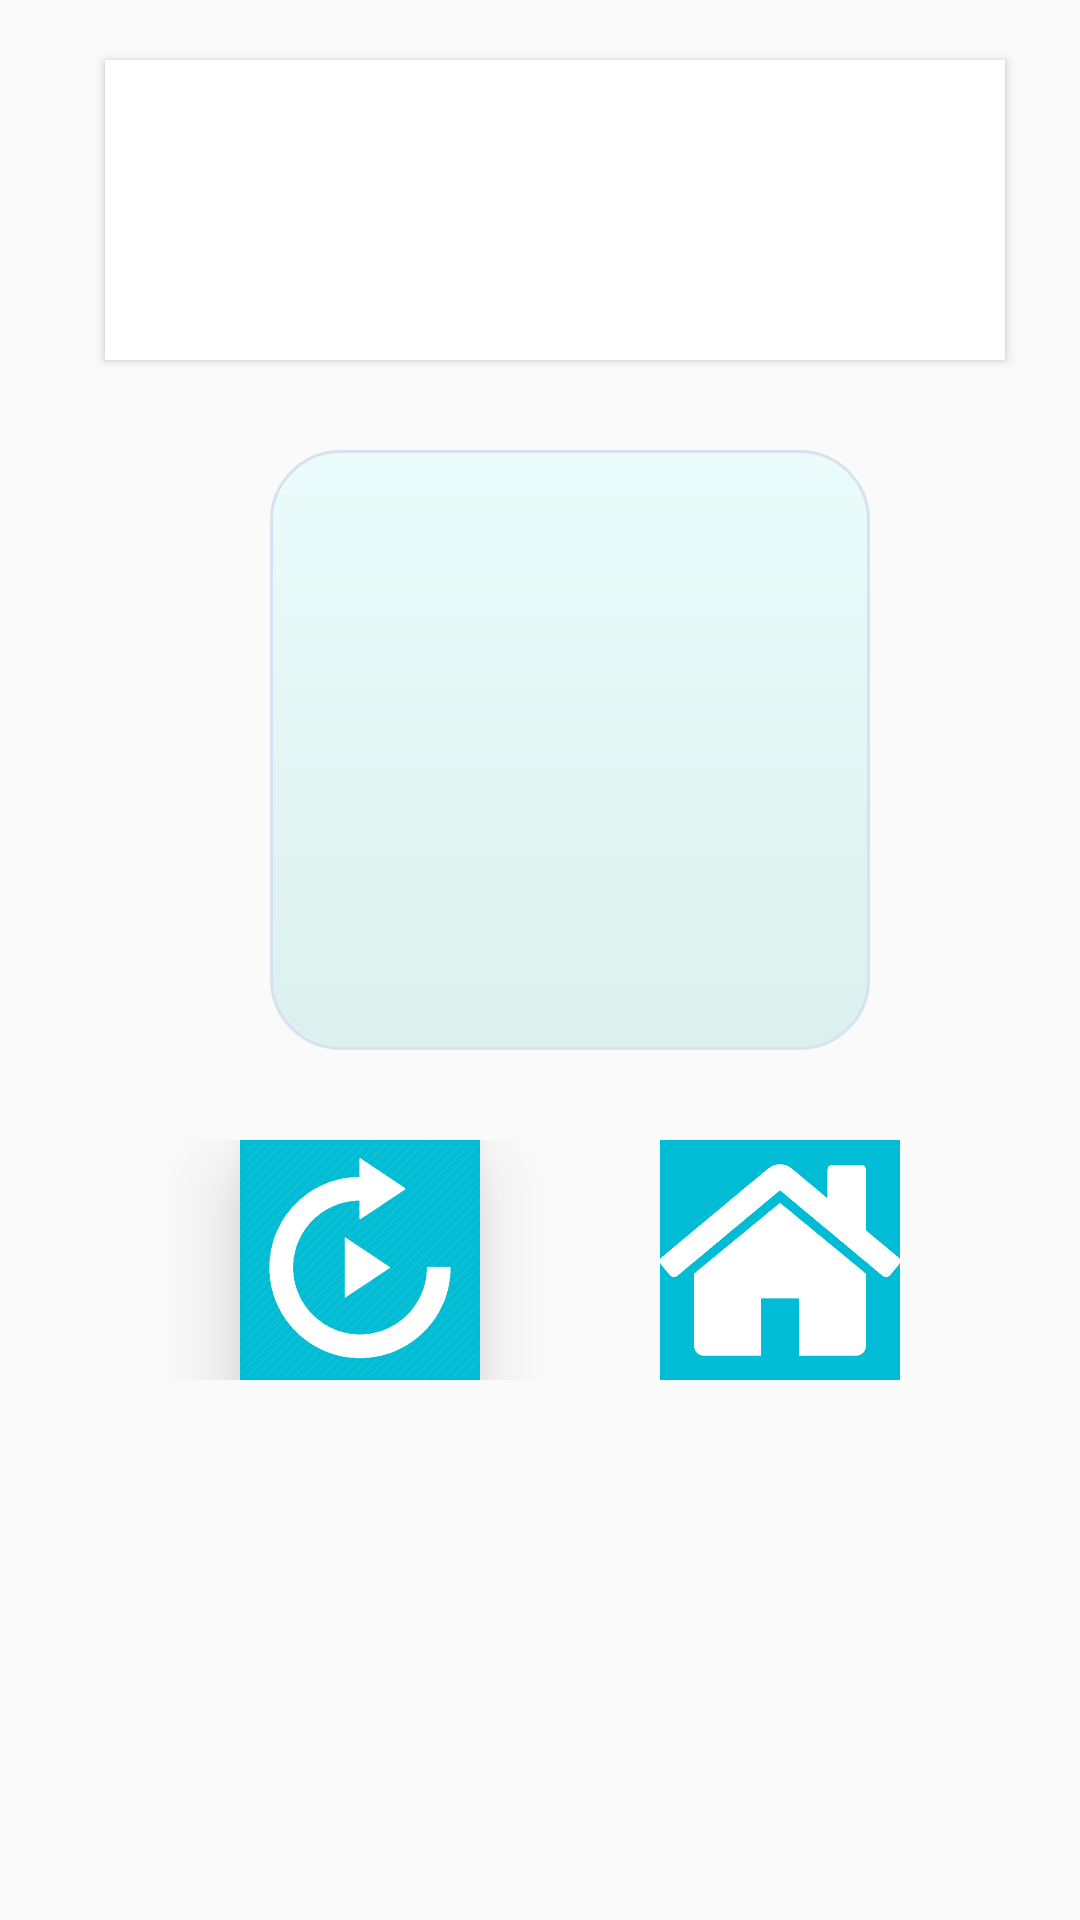

Icons on this 1080px x 1920px Android screen, each with its box as (x1, y1, x2, y2):
home: (660, 1140, 900, 1380)
replay: (240, 1140, 480, 1380)
